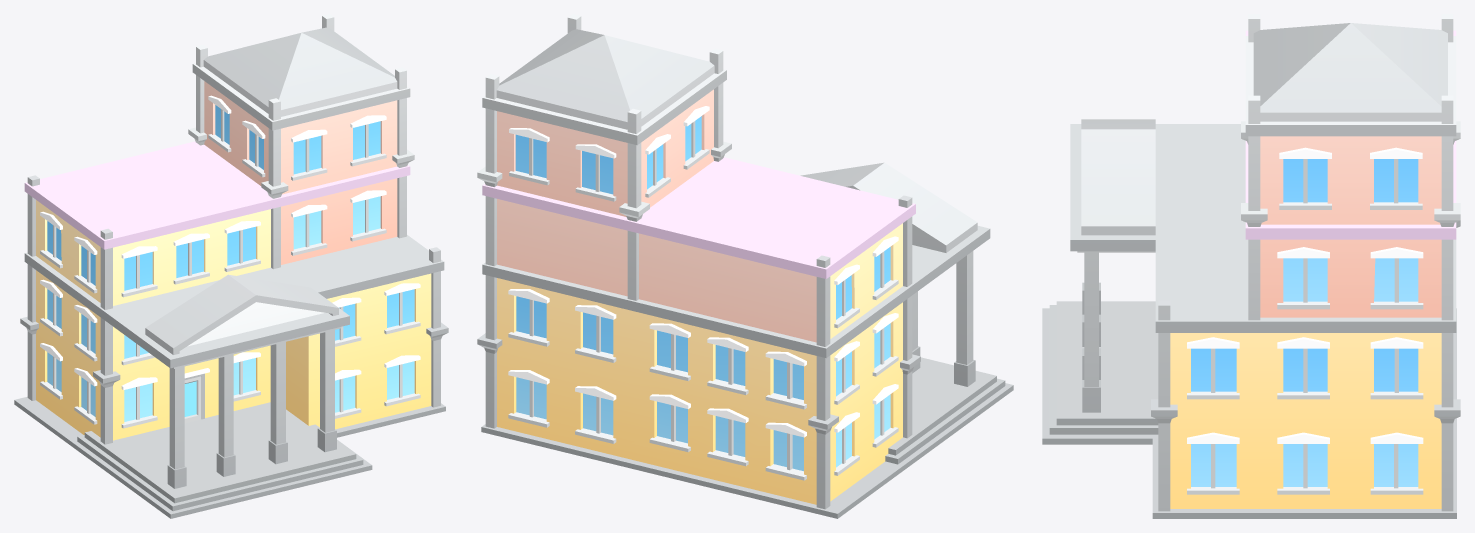
Rendered from Building_State_06.glb.
3 views of the same model, side by side, from view 1: azimuth 30°, elevation 25°; view 2: azimuth 150°, elevation 25°; view 3: azimuth 270°, elevation 25° (orthographic). The views are drawn at different scales.
Visible parts, largest first — view 1: Building_State_06; view 2: Building_State_06; view 3: Building_State_06.
Boxes of the visible parts, x1,y1,x2,y2 form: Building_State_06: (14, 14, 448, 518); Building_State_06: (477, 14, 1013, 518); Building_State_06: (1042, 14, 1460, 518).
Bounding box in the file's own units: 16.55 × 16.89 × 14.19.
1 material, 1 textured.
